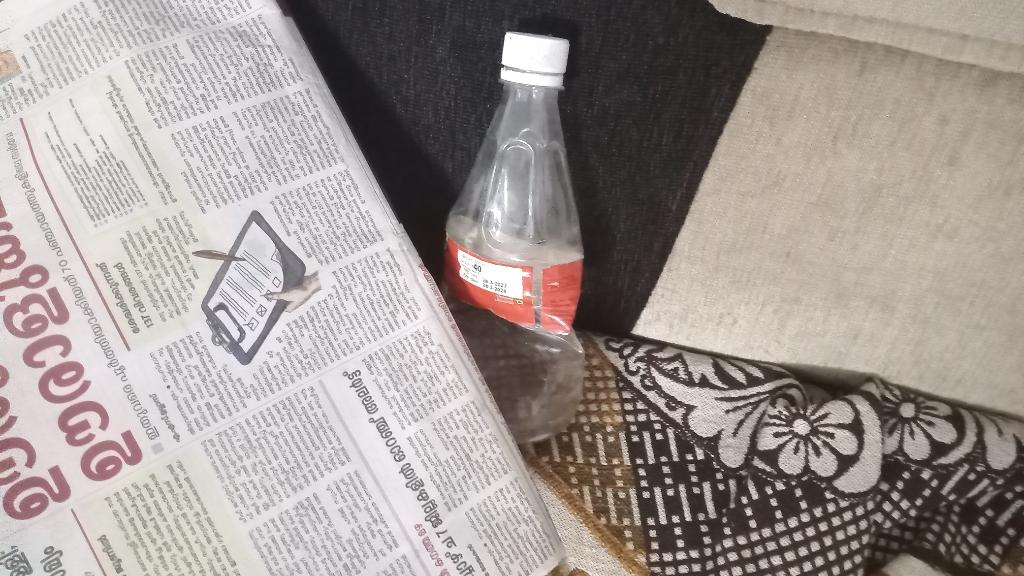garbage: (441, 16, 599, 449)
